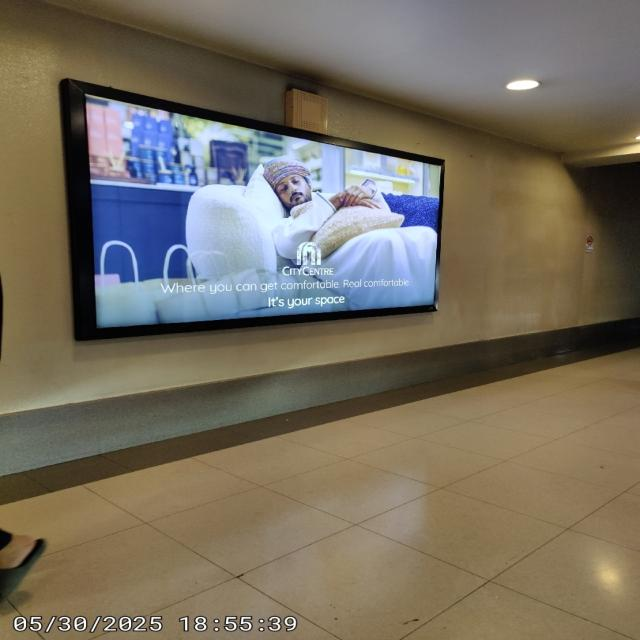digital-board-medium: (66, 78, 444, 343)
